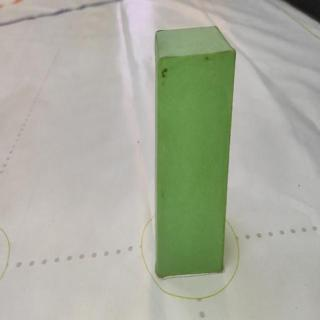greenbox: (155, 23, 237, 281)
